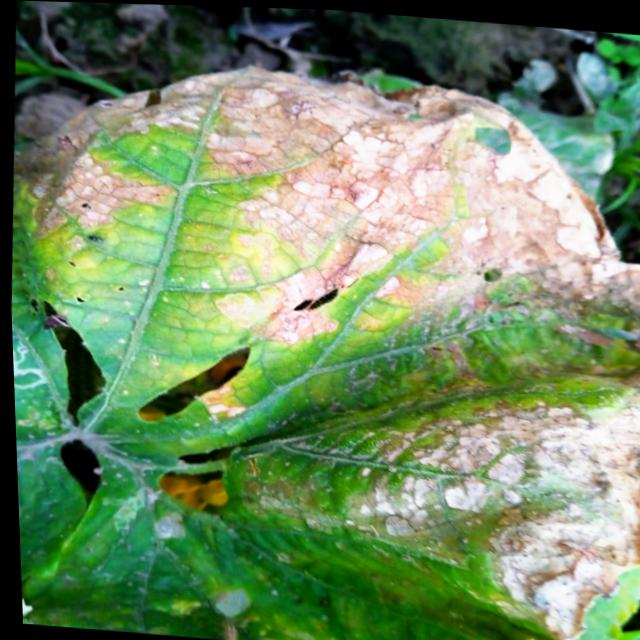Gummy-Stem-Blight: (2, 51, 640, 640)
